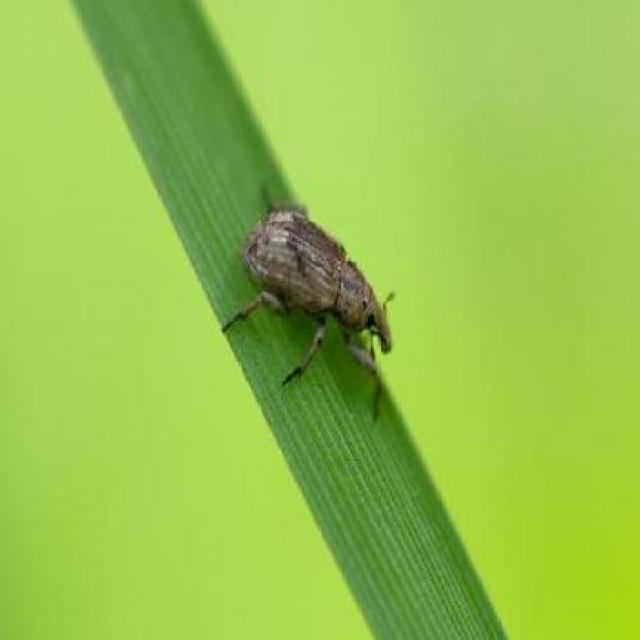rice-bug: (237, 205, 394, 383)
